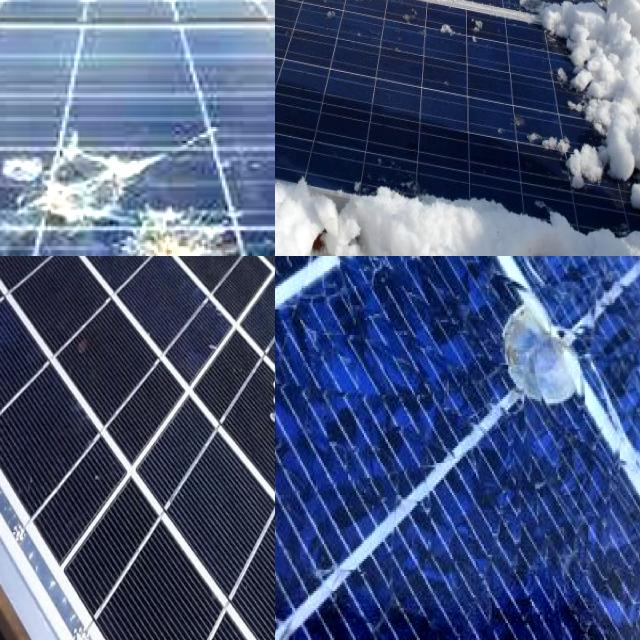bird: (0, 118, 161, 220), (109, 215, 236, 256)
hotspot: (482, 256, 640, 428)
panel: (336, 178, 530, 253), (527, 0, 628, 142), (558, 80, 640, 252), (275, 92, 333, 213), (413, 0, 532, 56), (275, 0, 336, 98), (275, 0, 396, 43), (557, 0, 622, 73), (275, 152, 324, 228), (275, 0, 379, 30), (275, 0, 322, 66)
